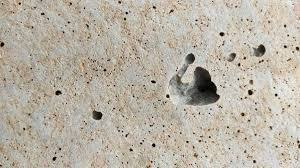Spalling: (1, 1, 300, 168), (167, 50, 220, 107)
